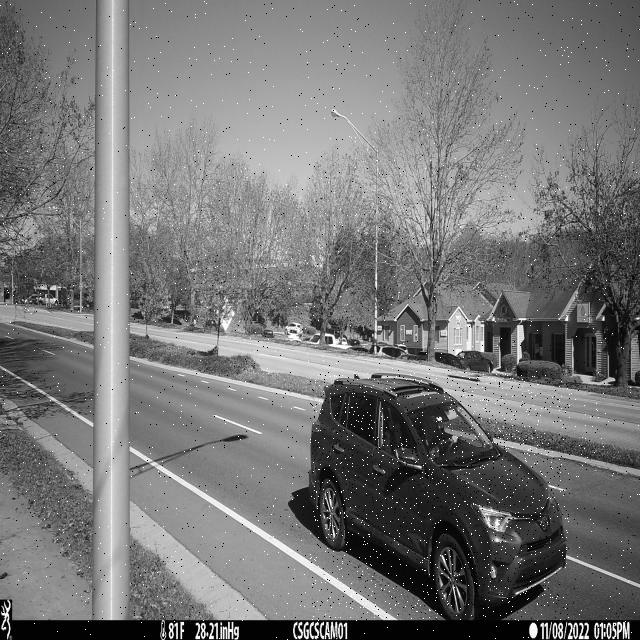SUV: (310, 373, 570, 621)
